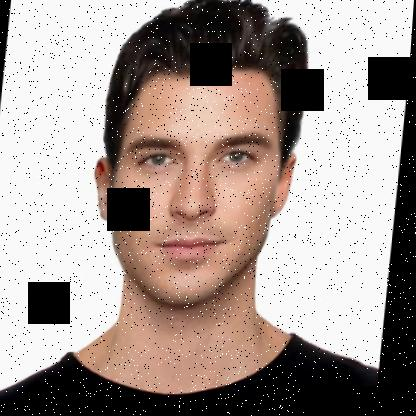Male: (85, 62, 304, 316)
